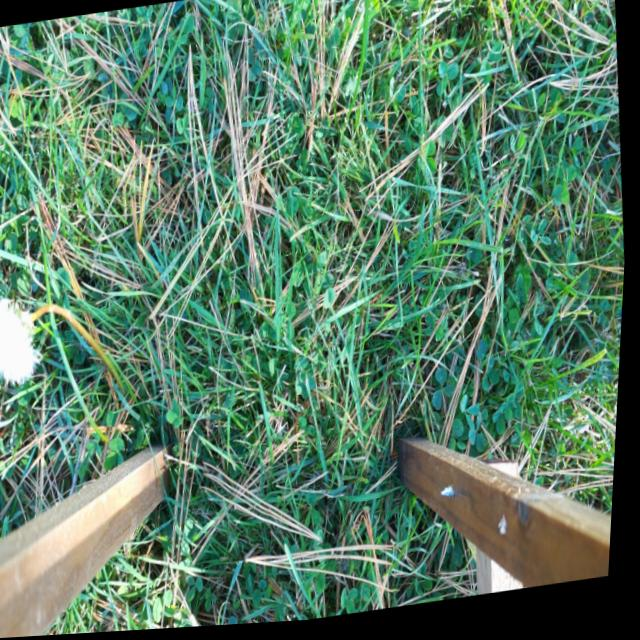base: (112, 374, 140, 419)
flower: (0, 292, 43, 390)
